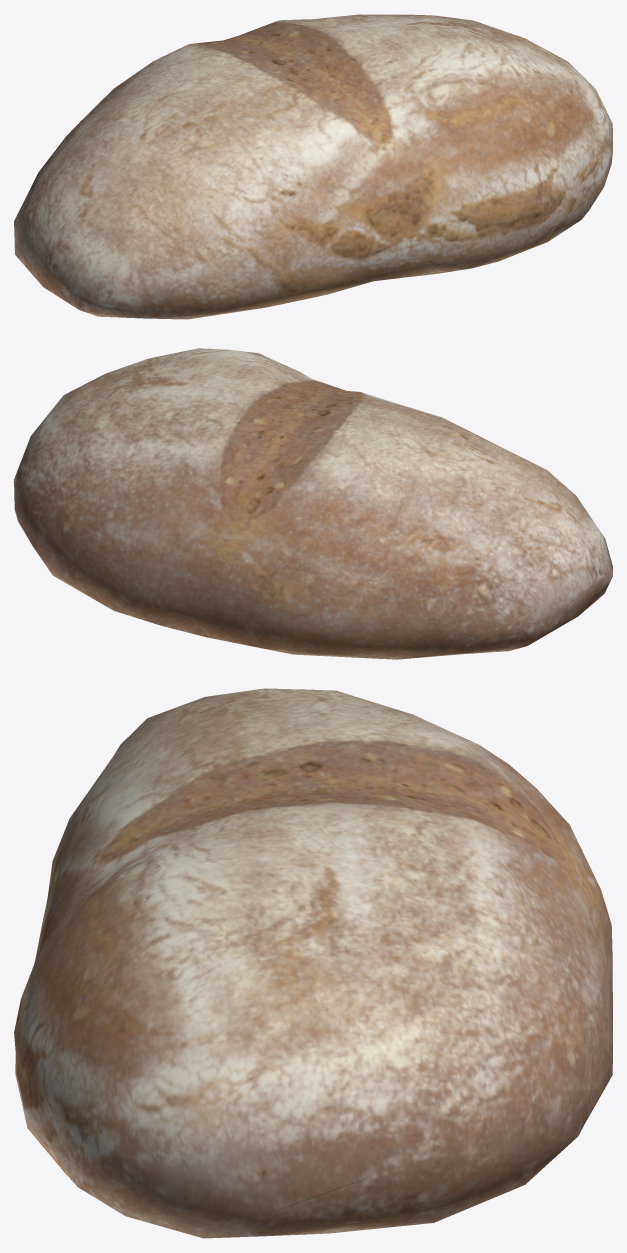
The model's file is BreadLoaf.fbx.
The picture shows the model from 3 angles, top to bottom: view 1: azimuth 30°, elevation 25°; view 2: azimuth 150°, elevation 25°; view 3: azimuth 270°, elevation 25°; orthographic projection. The views are drawn at different scales.
Parts seen in each view (by area): view 1: BreadLoaf; view 2: BreadLoaf; view 3: BreadLoaf.
Boxes of the visible parts, bbox=[...] form: BreadLoaf: bbox=[14, 14, 612, 319]; BreadLoaf: bbox=[14, 348, 612, 659]; BreadLoaf: bbox=[14, 688, 612, 1238].
Size of the model in its own units: 0.3217 by 0.1042 by 0.1929.
Materials: 1 (1 with a texture image).
